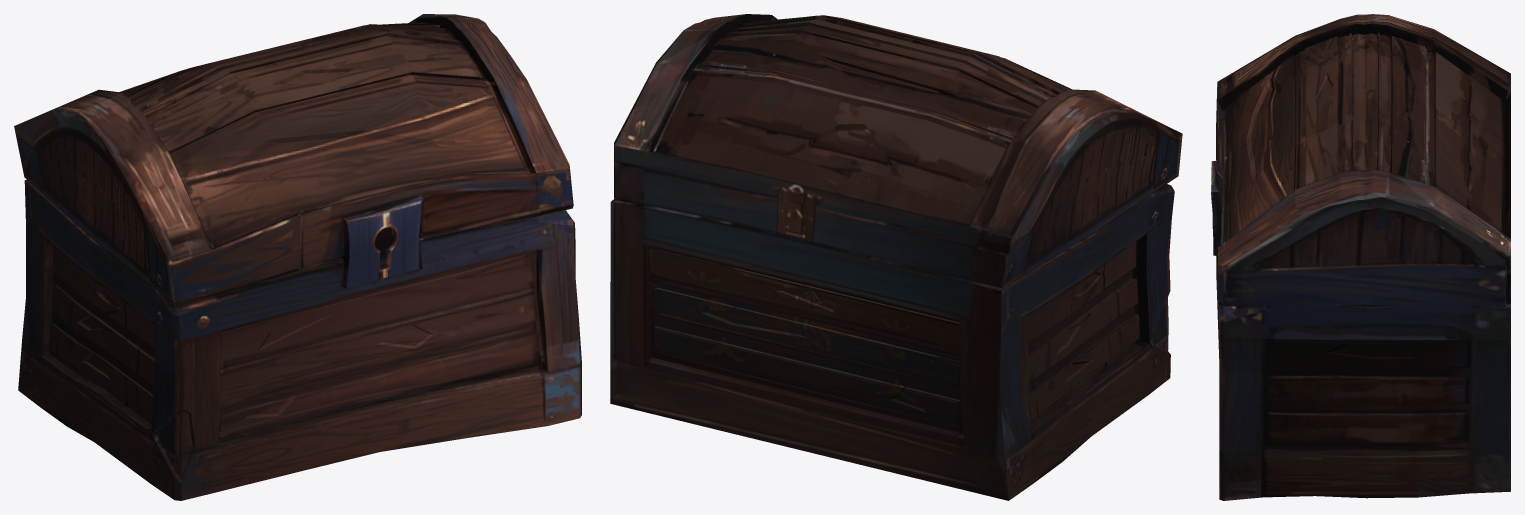
Rendered from chest1.glb.
3 views of the same model, side by side, from view 1: azimuth 30°, elevation 25°; view 2: azimuth 150°, elevation 25°; view 3: azimuth 270°, elevation 25° (orthographic). The views are drawn at different scales.
Parts seen in each view (by area): view 1: Object_2; view 2: Object_2; view 3: Object_2.
Boxes of the visible parts, x1=… form: Object_2: x1=14, y1=14, x2=581, y2=500; Object_2: x1=610, y1=14, x2=1182, y2=500; Object_2: x1=1211, y1=14, x2=1510, y2=500.
Size of the model in its own units: 1.24 by 1.01 by 0.8381.
1 material, 1 textured.
